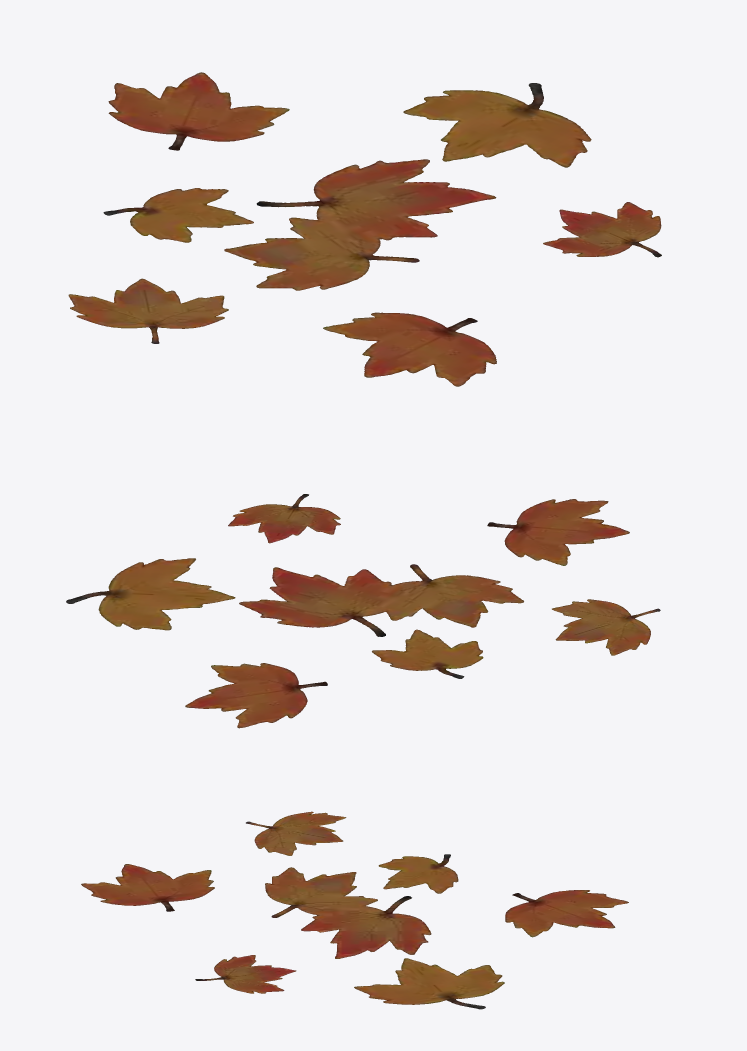
3 views of the same model, one above another, from view 1: azimuth 30°, elevation 25°; view 2: azimuth 150°, elevation 25°; view 3: azimuth 270°, elevation 25° (orthographic). The views are drawn at different scales.
Visible parts, largest first — view 1: SM_ScatteredLeaves_Maple_05_LOD0; view 2: SM_ScatteredLeaves_Maple_05_LOD0; view 3: SM_ScatteredLeaves_Maple_05_LOD0.
Boxes of the visible parts, bbox=[...] form: SM_ScatteredLeaves_Maple_05_LOD0: bbox=[68, 72, 661, 386]; SM_ScatteredLeaves_Maple_05_LOD0: bbox=[66, 494, 660, 728]; SM_ScatteredLeaves_Maple_05_LOD0: bbox=[81, 811, 628, 1009].
Size of the model in its own units: 1.35 by 0 by 1.66.
1 material, 1 textured.
